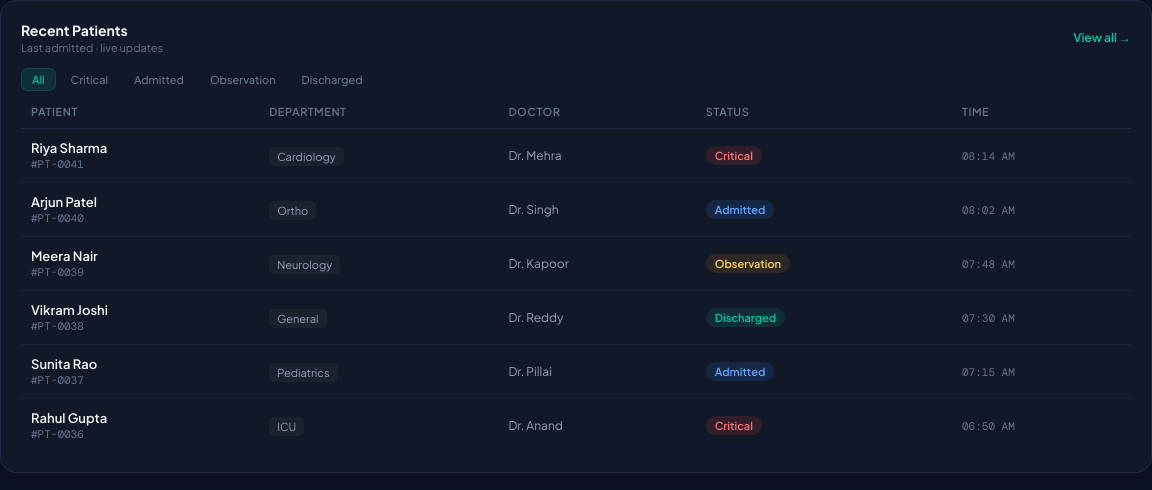
Scenario: PatientsTable › shows all patients when All tab is clicked
Click the button "Critical" at x=89, y=80, box [60,68,119,91]
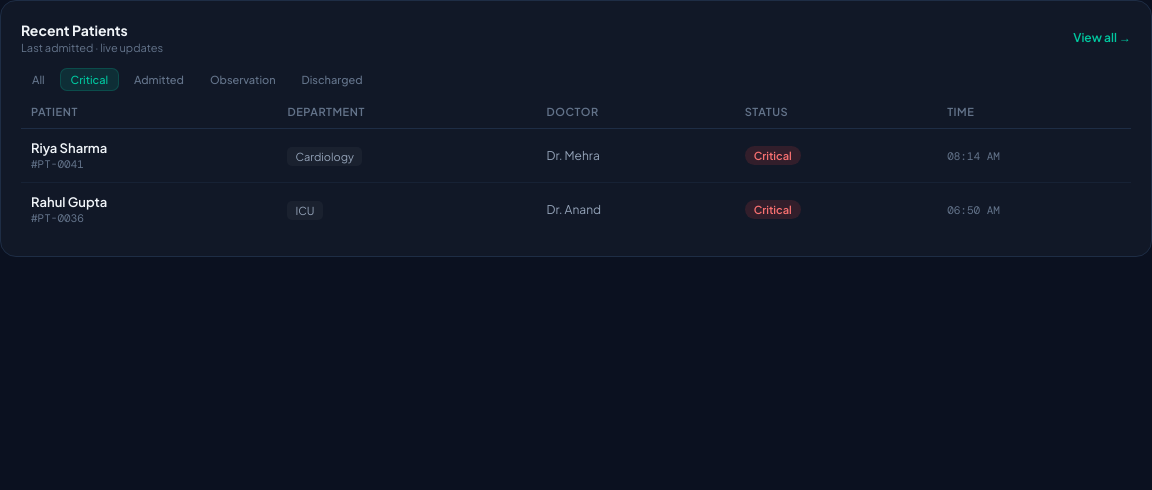
Click the button "All" at x=38, y=80, box [21,68,56,91]
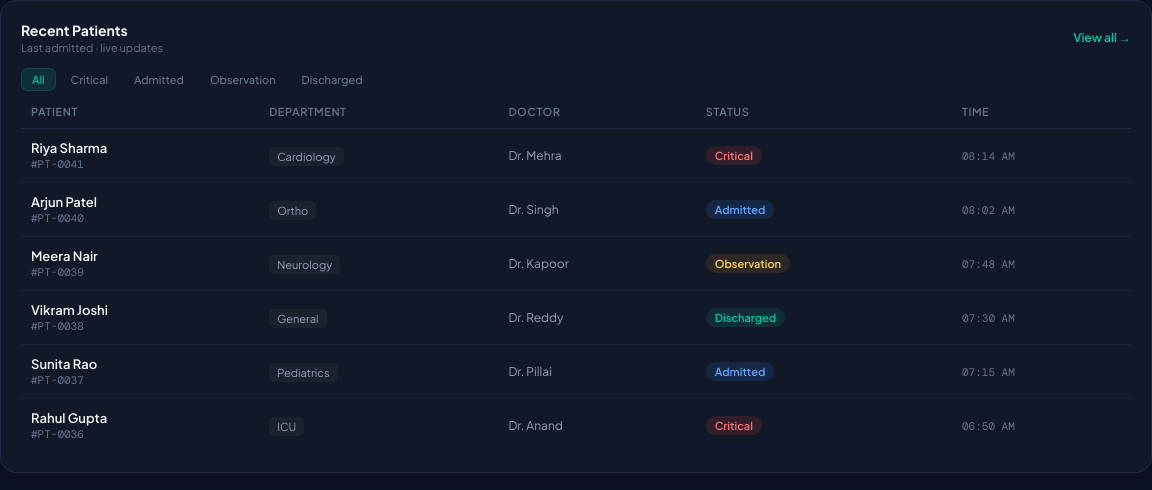
Expected: the number of rows with test id "patient-row" is 6, [21,128,1131,182]; [21,182,1131,236]; [21,236,1131,290]; [21,290,1131,344]; [21,344,1131,398]; [21,398,1131,452]
